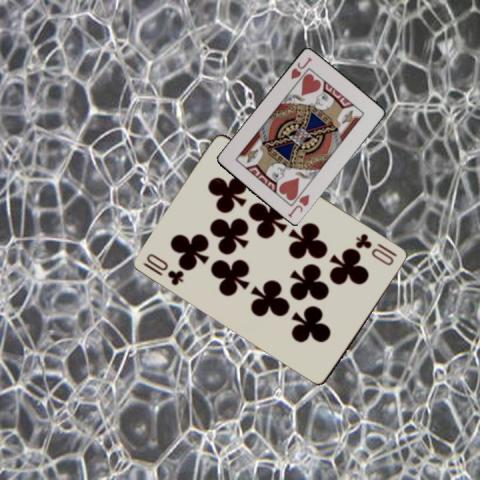10c: (352, 230, 399, 267), (141, 250, 186, 287)
Jh: (284, 191, 310, 220), (288, 54, 314, 81)
